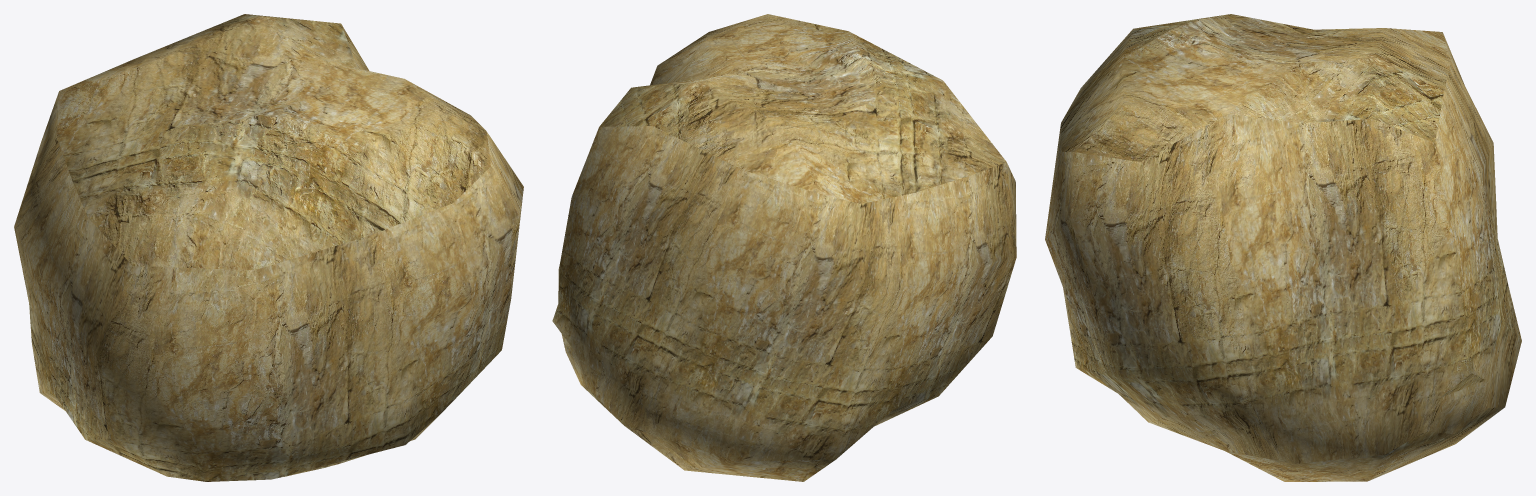
The model's file is Boulder14.dae.
3 renders of one model, left to right at view 1: azimuth 30°, elevation 25°; view 2: azimuth 150°, elevation 25°; view 3: azimuth 270°, elevation 25°, orthographic. The views are drawn at different scales.
Parts seen in each view (by area): view 1: rock0; view 2: rock0; view 3: rock0.
Part boxes in pixels (x1,y1,x2,y2): rock0: (14, 14, 523, 481); rock0: (552, 14, 1016, 481); rock0: (1045, 14, 1521, 481).
Bounding box in the file's own units: 1.58 × 1.59 × 1.49.
